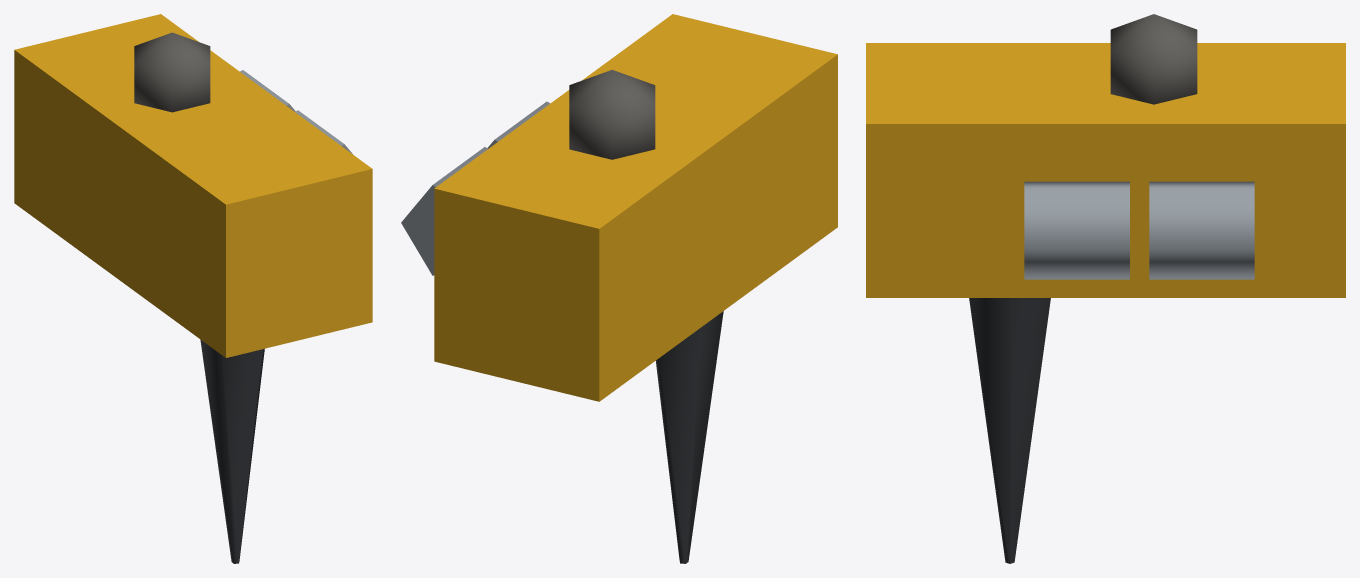
The model's file is space_orbital_extractor_t2_lod1.glb.
The picture shows the model from 3 angles, left to right: view 1: azimuth 30°, elevation 25°; view 2: azimuth 150°, elevation 25°; view 3: azimuth 270°, elevation 25°; orthographic projection. The views are drawn at different scales.
Parts seen in each view (by area): view 1: body, drill; view 2: body, drill; view 3: body, drill.
Boxes of the visible parts, <box> form: body: <box>14,14,372,357</box>; drill: <box>200,339,264,563</box>; body: <box>401,14,837,401</box>; drill: <box>656,311,723,563</box>; body: <box>866,14,1345,297</box>; drill: <box>969,298,1050,563</box>.
Size of the model in its own units: 5.9 by 12.6 by 10.
